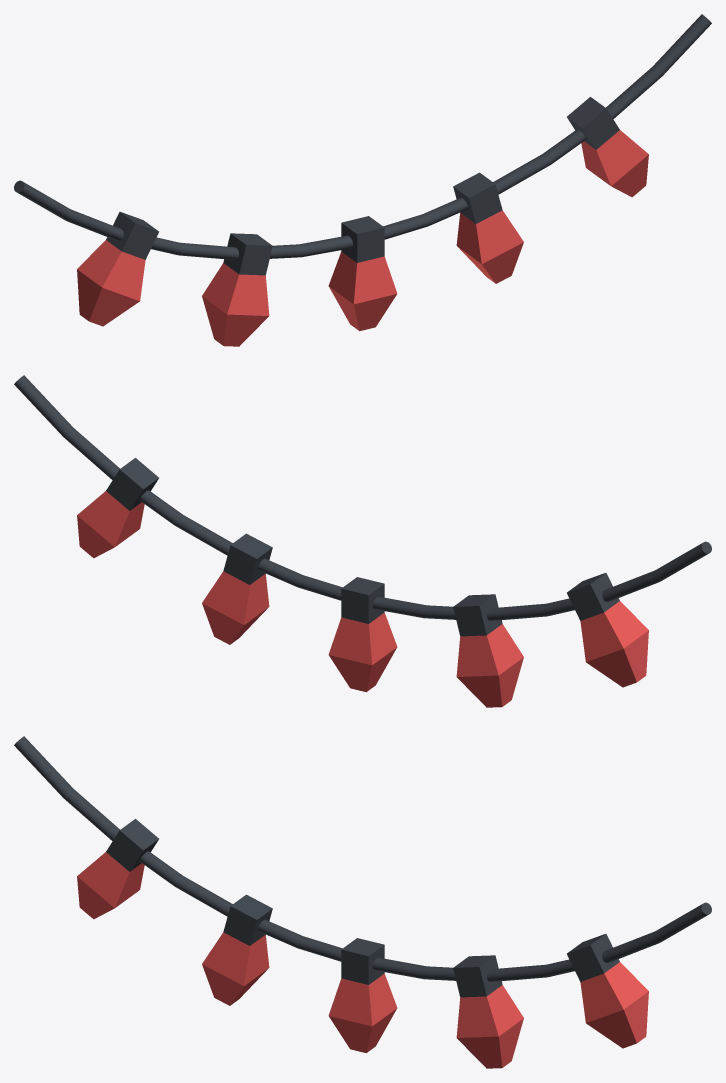
File: lightsRed.obj
The picture shows the model from 3 angles, top to bottom: view 1: azimuth 30°, elevation 25°; view 2: azimuth 150°, elevation 25°; view 3: azimuth 330°, elevation 25°; orthographic projection.
Parts seen in each view (by area): view 1: lightsRed; view 2: lightsRed; view 3: lightsRed.
Boxes of the visible parts, left/top/right/bottom form: lightsRed: left=14, top=14, right=711, bottom=346; lightsRed: left=14, top=375, right=711, bottom=707; lightsRed: left=14, top=736, right=711, bottom=1068.
Size of the model in its own units: 1.01 by 0.3162 by 0.0636.
